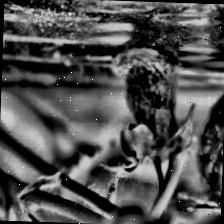Gray Mold: (102, 43, 196, 181)
